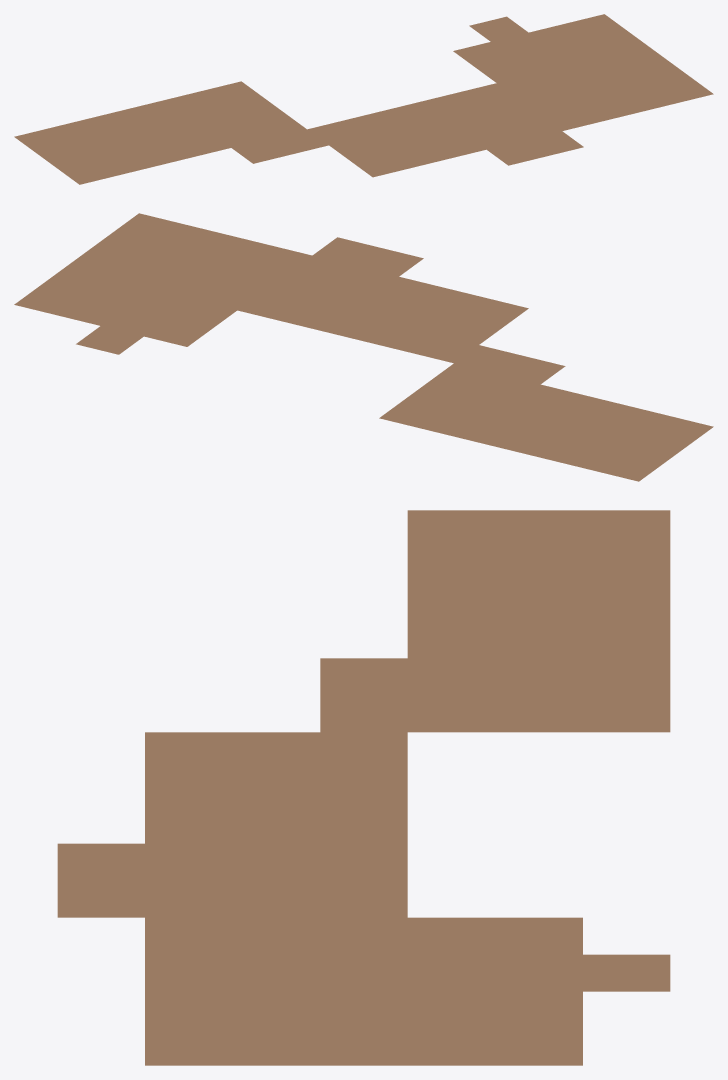
Rendered from N01_Piso_SalaComedorCocina_004.fbx.
3 views of the same model, one above another, from view 1: azimuth 30°, elevation 25°; view 2: azimuth 150°, elevation 25°; view 3: azimuth 270°, elevation 25° (orthographic). The views are drawn at different scales.
Visible parts, largest first — view 1: N01_Piso_SalaComedorCocina_004; view 2: N01_Piso_SalaComedorCocina_004; view 3: N01_Piso_SalaComedorCocina_004.
Boxes of the visible parts, x1,y1,x2,y2 form: N01_Piso_SalaComedorCocina_004: (14, 14, 713, 184); N01_Piso_SalaComedorCocina_004: (14, 213, 713, 481); N01_Piso_SalaComedorCocina_004: (57, 510, 670, 1065).
Size of the model in its own units: 1500 by 0.000114 by 700.
2 materials, 2 textured.
